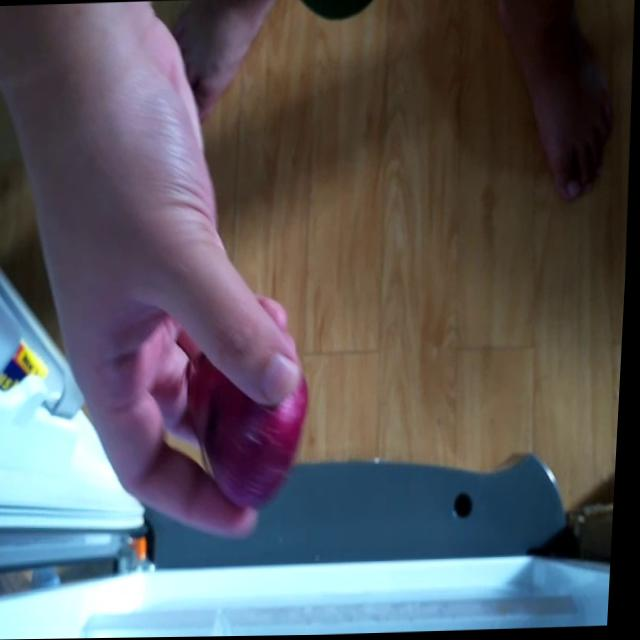onion: (181, 353, 319, 498)
